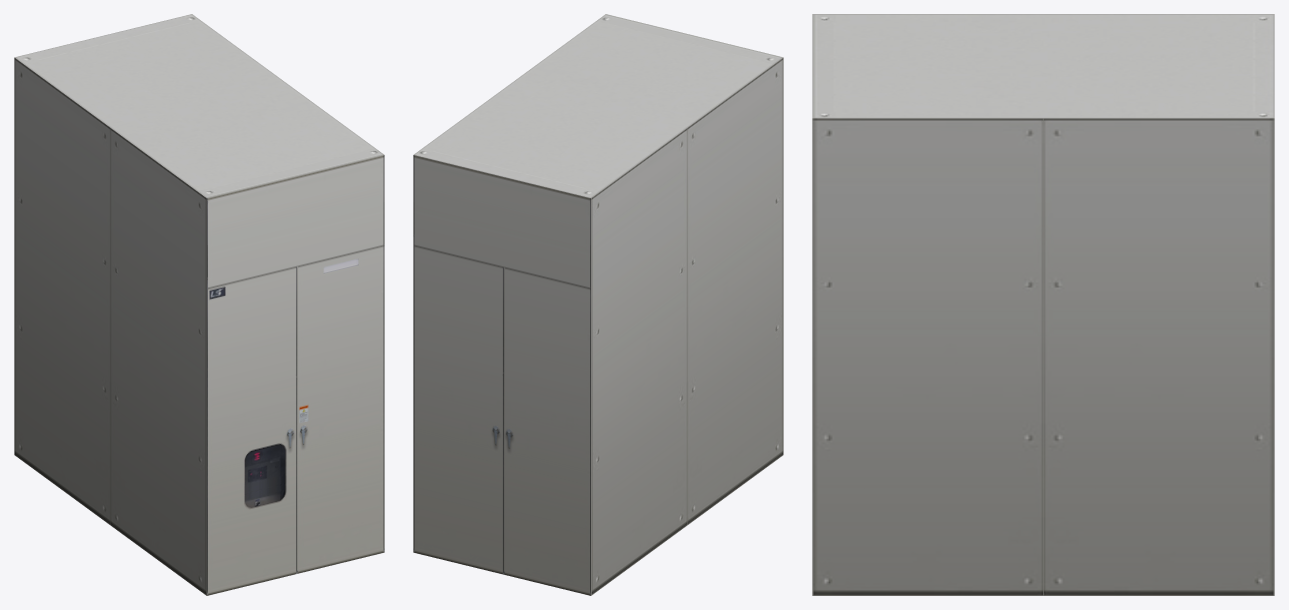
The model's file is ALTS.gltf.
3 renders of one model, left to right at view 1: azimuth 30°, elevation 25°; view 2: azimuth 150°, elevation 25°; view 3: azimuth 270°, elevation 25°, orthographic. The views are drawn at different scales.
Visible parts, largest first — view 1: ALTS-1; view 2: ALTS-1; view 3: ALTS-1.
Boxes of the visible parts, left/top/right/bottom form: ALTS-1: left=14, top=14, right=384, bottom=595; ALTS-1: left=413, top=14, right=783, bottom=595; ALTS-1: left=812, top=14, right=1274, bottom=595.
Size of the model in its own units: 1.6 by 3.42 by 3.
Materials: 1 (1 with a texture image).
